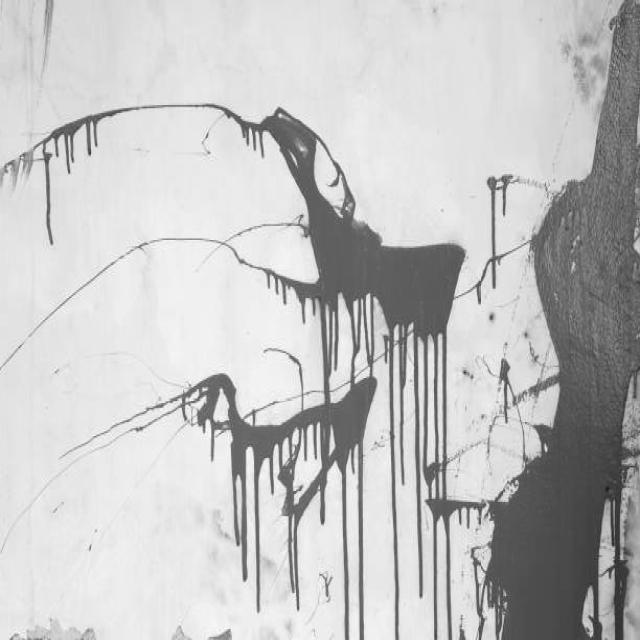paint drips: (195, 398, 371, 640), (383, 306, 459, 640), (17, 102, 112, 250), (578, 471, 640, 640), (316, 283, 380, 401), (255, 266, 318, 340), (486, 166, 515, 303), (215, 110, 268, 175), (459, 492, 496, 539), (626, 360, 640, 406), (474, 279, 484, 308)
